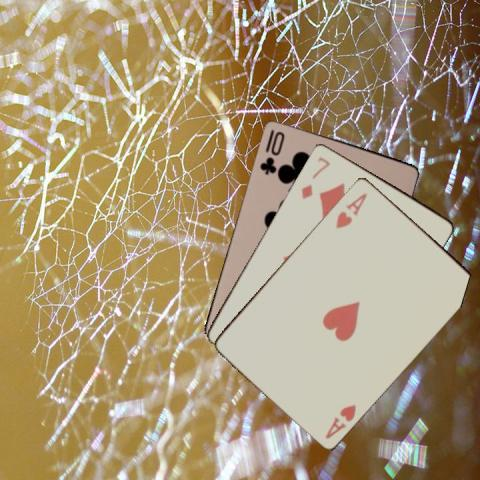10c: (257, 126, 286, 176)
7d: (298, 153, 331, 201)
Ah: (332, 189, 369, 230), (322, 401, 358, 440)
